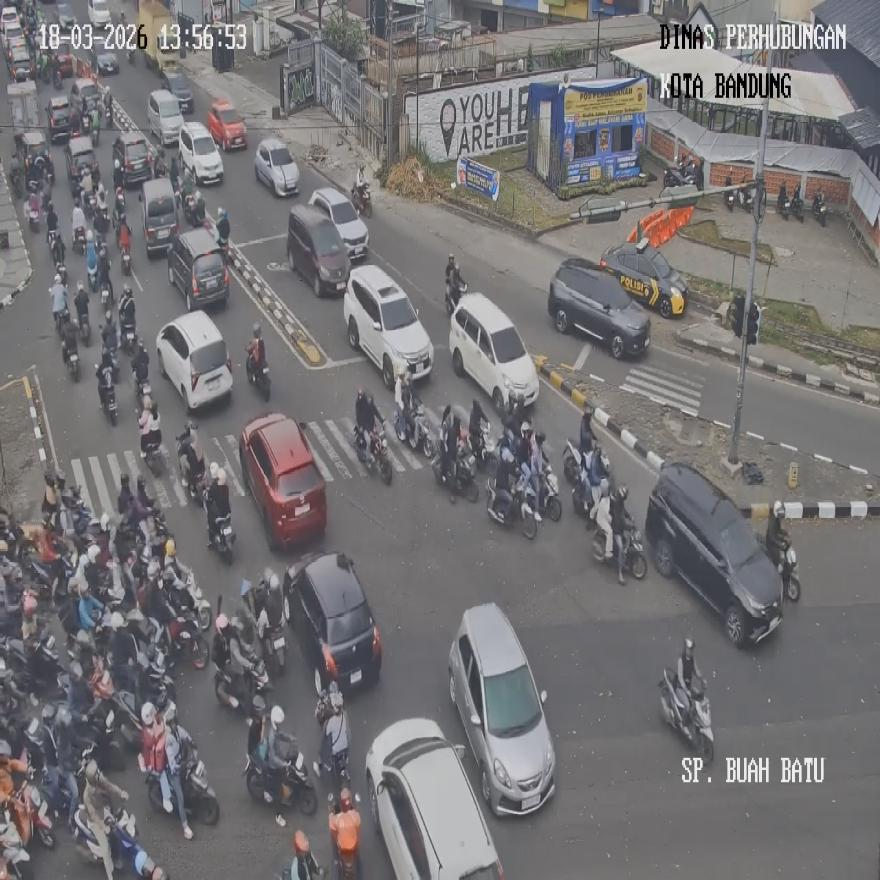Motor: (644, 460, 784, 647), (448, 602, 556, 816), (364, 716, 504, 878), (282, 550, 381, 693), (240, 412, 327, 550), (449, 290, 539, 420), (343, 262, 433, 391), (547, 256, 651, 360), (156, 309, 233, 413), (600, 234, 688, 316), (286, 203, 351, 297), (168, 227, 228, 310), (310, 187, 369, 260), (179, 121, 223, 186), (254, 137, 299, 198)
Truk: (74, 805, 165, 880), (146, 746, 218, 826), (659, 668, 714, 767), (244, 743, 316, 815), (314, 670, 350, 790), (214, 644, 271, 716), (486, 470, 537, 538), (592, 518, 646, 581), (432, 431, 478, 502), (26, 549, 74, 605), (764, 533, 800, 605), (354, 419, 392, 485), (176, 426, 207, 504), (399, 399, 434, 458), (0, 814, 31, 879), (137, 406, 163, 475), (206, 506, 234, 562), (260, 618, 287, 676), (470, 418, 498, 473), (245, 341, 271, 400), (538, 461, 561, 522), (95, 363, 117, 425), (181, 188, 205, 226), (445, 276, 467, 314), (741, 180, 764, 215), (63, 336, 80, 381), (351, 181, 372, 216), (119, 221, 132, 273), (119, 314, 135, 356), (26, 192, 41, 230), (789, 187, 805, 221), (724, 172, 737, 212), (99, 281, 112, 320), (71, 223, 86, 256), (87, 251, 99, 292), (812, 191, 826, 226), (776, 182, 789, 218)
